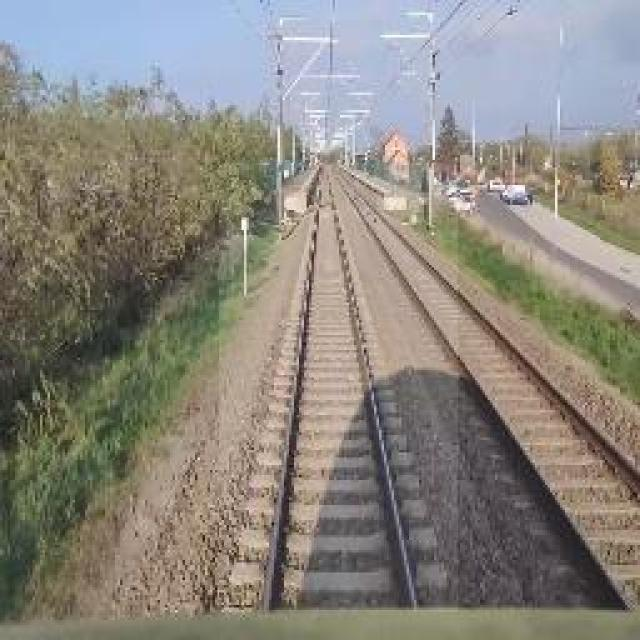rail: (221, 165, 459, 613)
